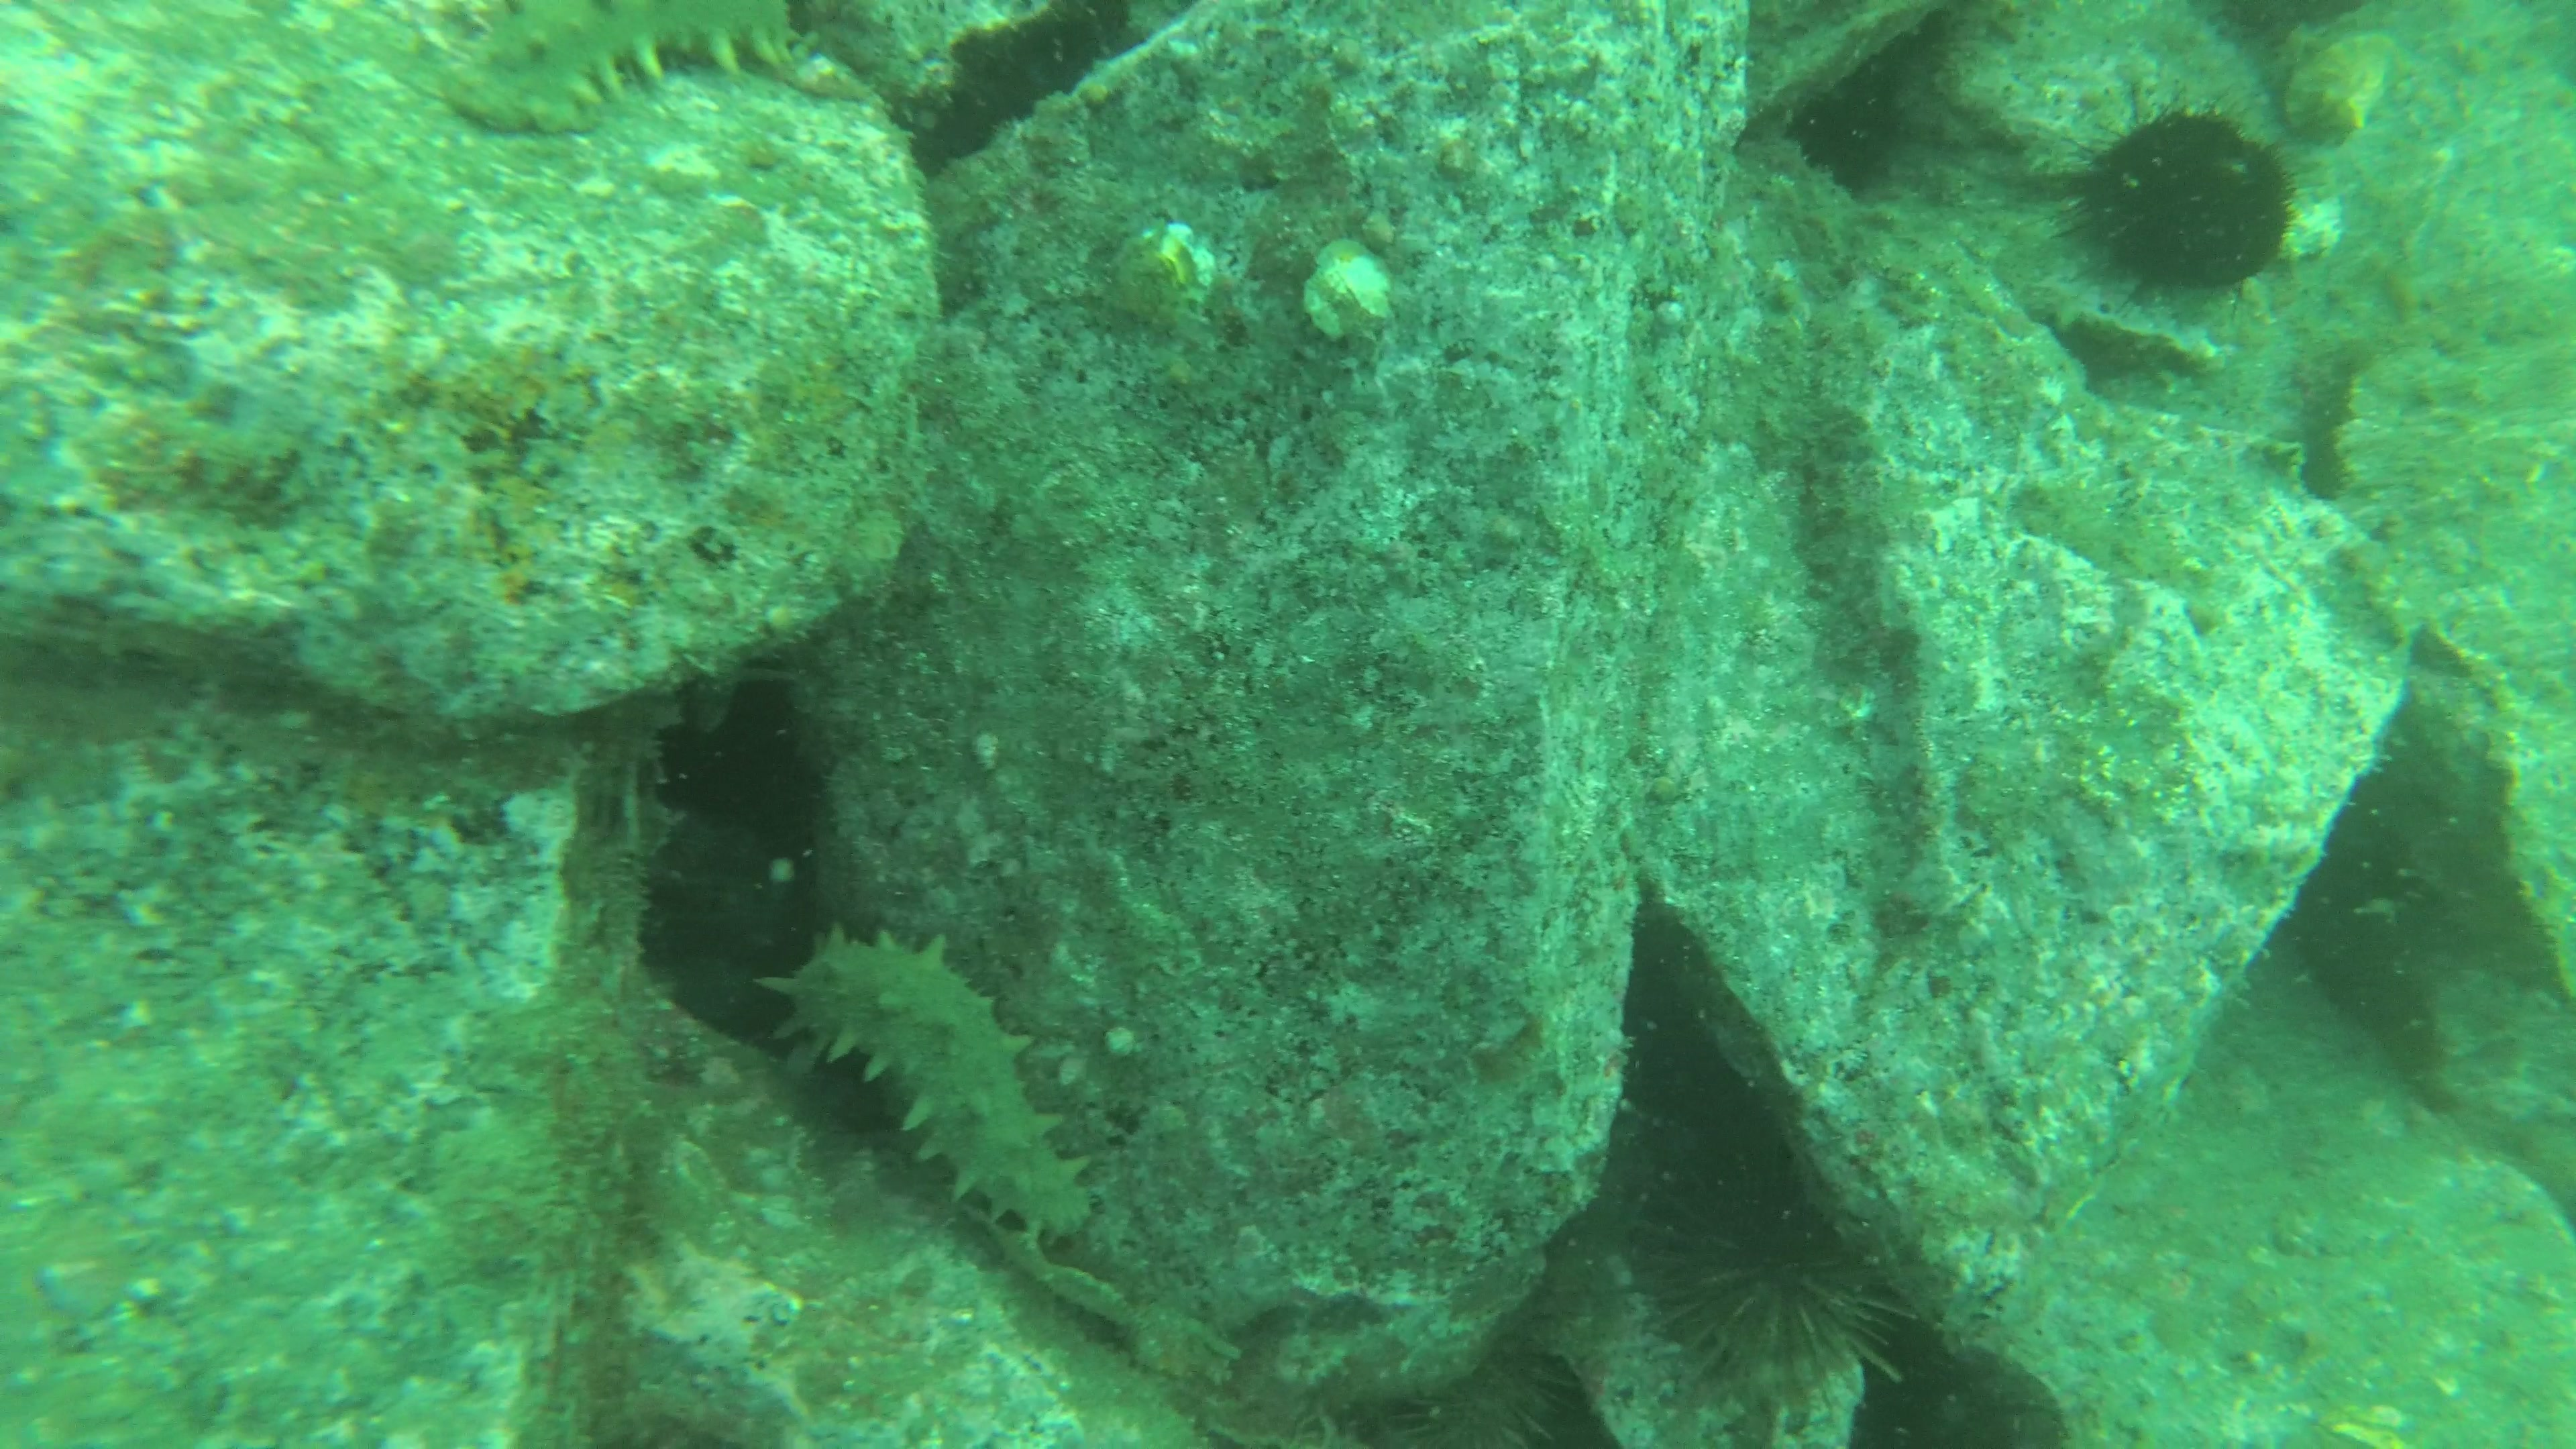echinus: (1629, 1131, 1928, 1405), (2033, 85, 2307, 306), (1361, 1338, 1596, 1442)
holothurian: (757, 904, 1111, 1247), (428, 0, 805, 124)
